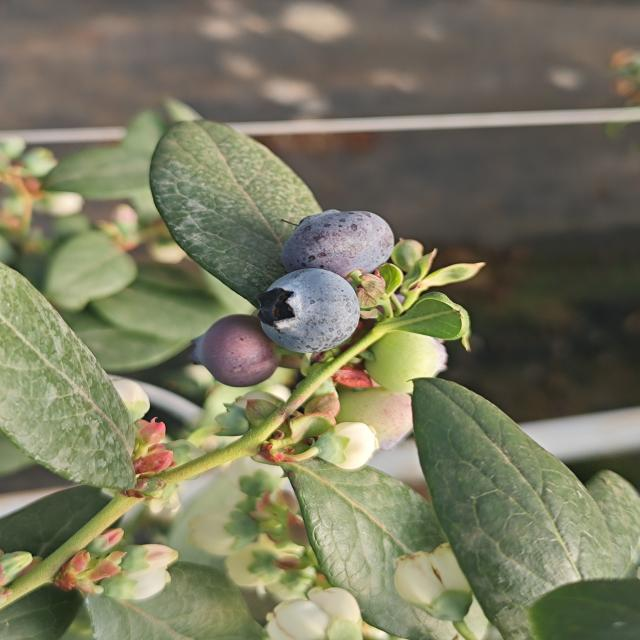ripe: (253, 266, 363, 356), (278, 208, 396, 279), (191, 313, 282, 389)
